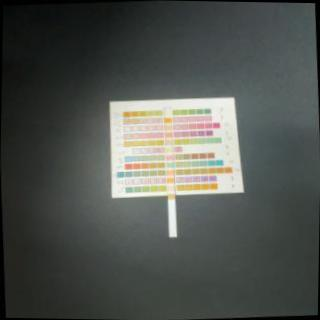mark: (164, 108, 171, 115), (164, 124, 172, 130), (164, 116, 171, 122), (165, 139, 172, 145), (165, 146, 172, 152), (166, 154, 173, 160), (168, 193, 175, 199), (166, 162, 174, 167), (166, 185, 174, 190), (168, 170, 174, 175), (165, 132, 172, 136), (166, 178, 173, 182)
